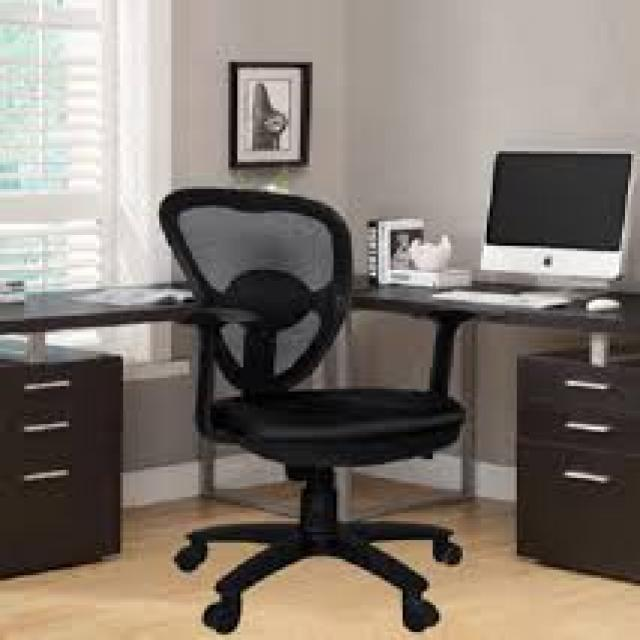chair: (160, 182, 466, 630)
